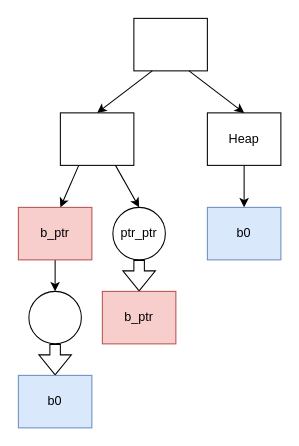
The diagram is 299 pixels wide and 446 high, and some of its shapes have lost their labels. Each missing label, with the centre of its shape:
"Memory" belongs at point 170,44.
"ptr" belongs at point 54,317.
"Stack" belongs at point 96,138.
